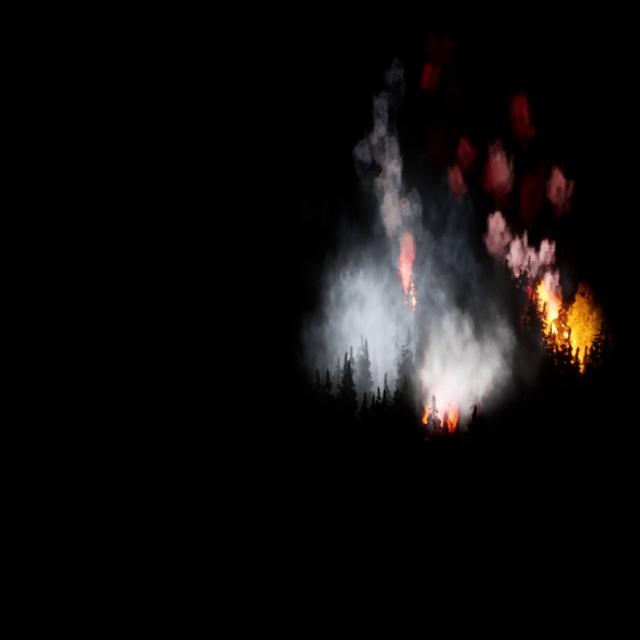fire: (532, 265, 584, 378), (394, 222, 424, 312), (419, 395, 458, 433)
smoke: (303, 82, 516, 430), (449, 85, 567, 303)
